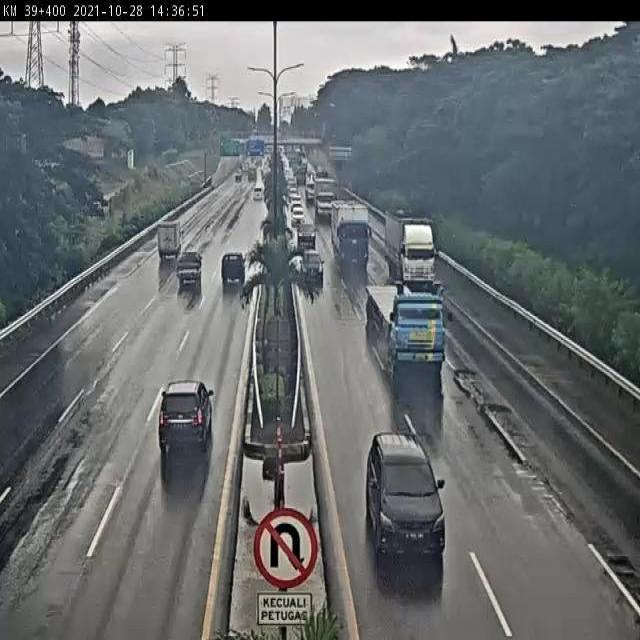big truck: (370, 289, 450, 375), (382, 203, 434, 276), (336, 203, 363, 264)
car: (362, 423, 433, 541), (131, 373, 220, 456), (219, 254, 237, 294), (298, 218, 316, 242)
small truck: (168, 260, 196, 301), (149, 229, 171, 267)
